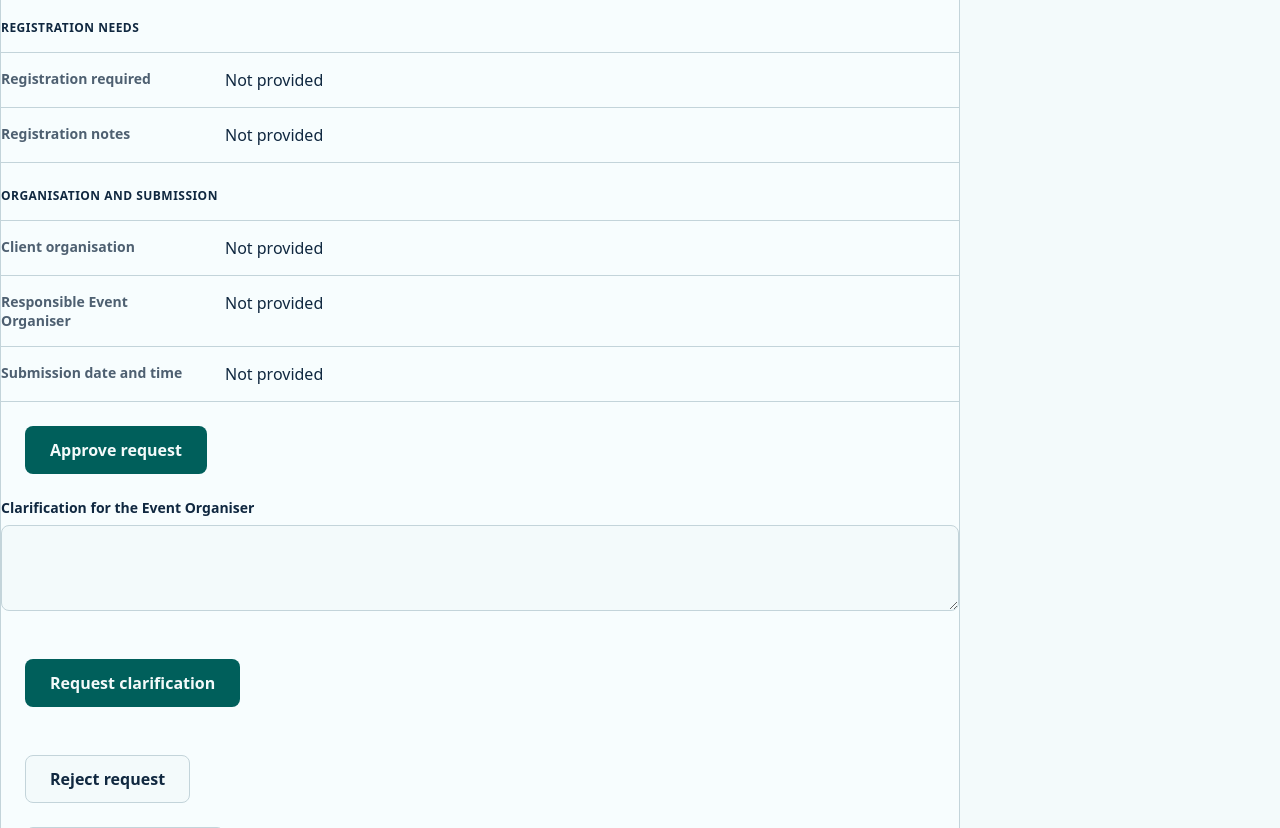
[QA-SPL-67-090] posts to the approve endpoint with no body, so no status can be chosen
(page scrolled)
Click the button "Approve request" at (116, 450), box [25,426,207,474]
(page scrolled)
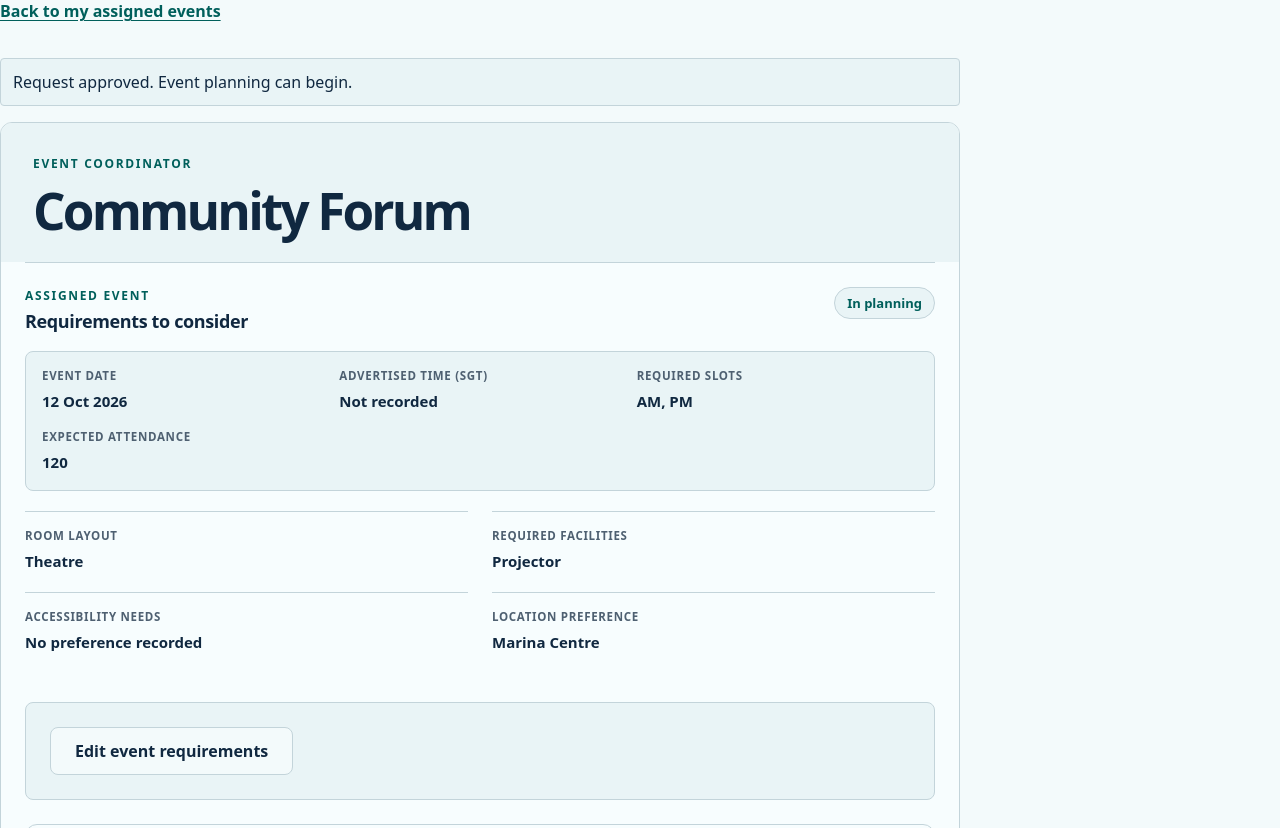
Result: the text "Request approved. Event planning can begin." is shown at [0,58,960,106]
